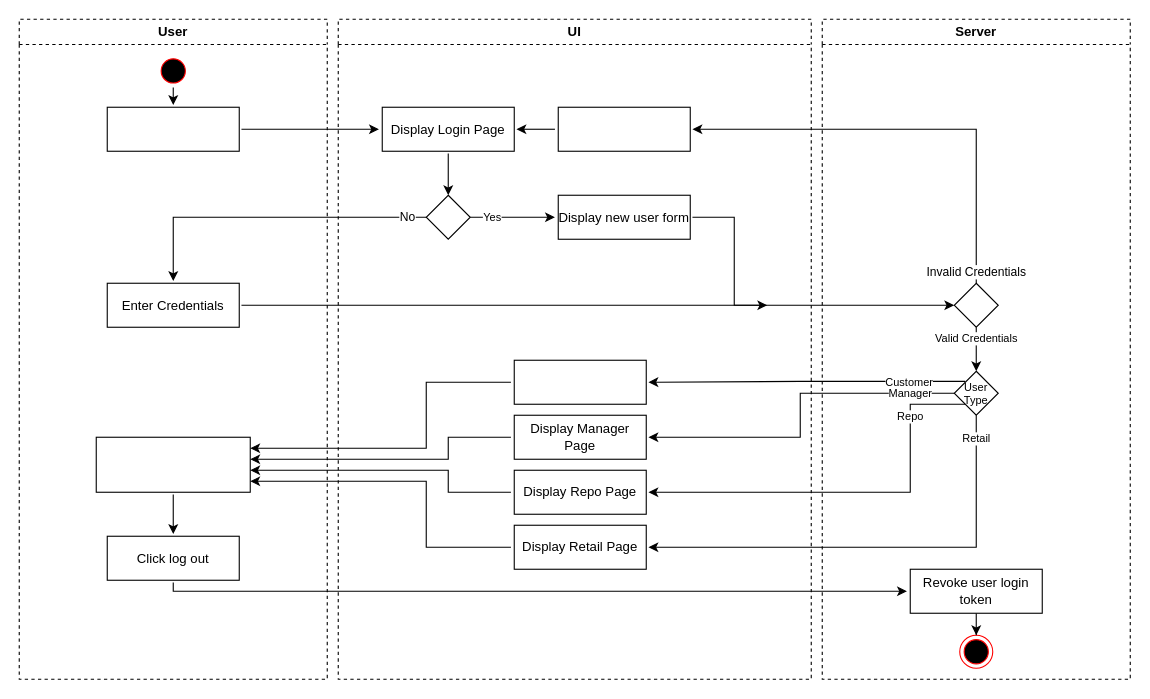
Image size: 1150x699. Some labels were removed from this diagram. The centre of each missing label's shape, as x and y in pixels:
"Auth" belongs at [975,304].
"Display Customer Page" belongs at [579,381].
"Display Error Page" belongs at [623,128].
"New User" belongs at [447,216].
"Perform desired user actions" belongs at [172,464].
"Visit Rental Site" belongs at [172,128].
